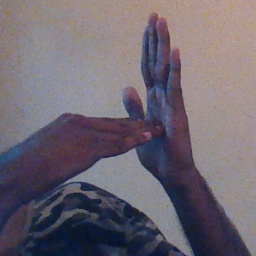Z: (73, 13, 196, 177)
